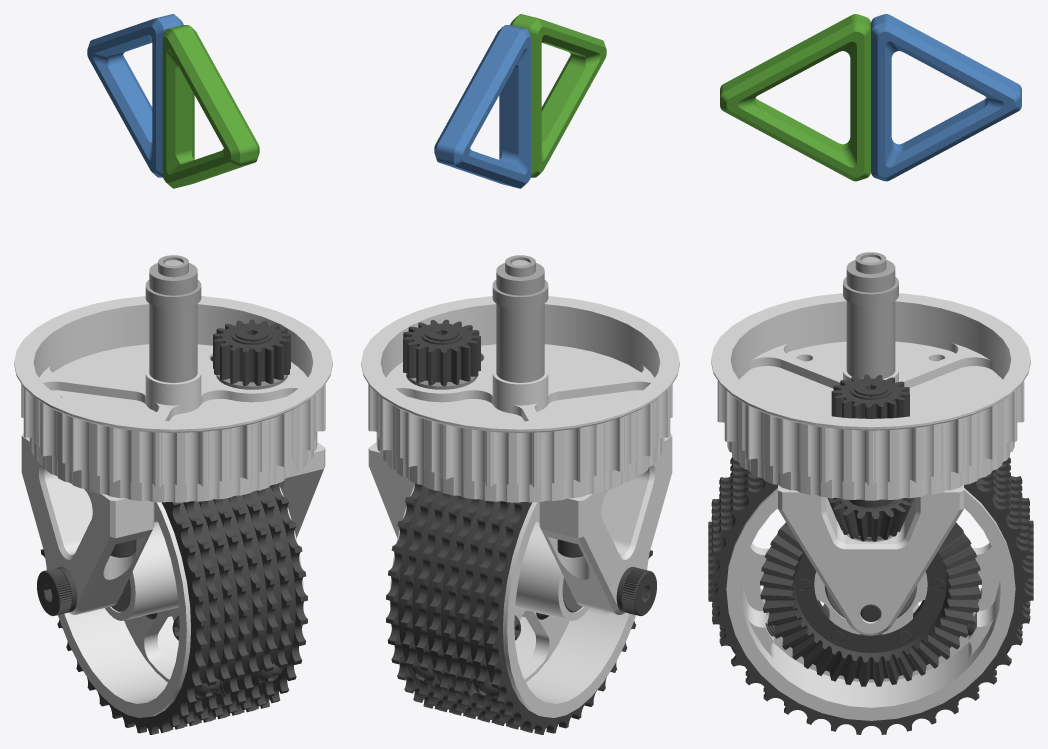
File: Robot_Swerve_1.glb
The picture shows the model from 3 angles, left to right: view 1: azimuth 30°, elevation 25°; view 2: azimuth 150°, elevation 25°; view 3: azimuth 270°, elevation 25°; orthographic projection.
Parts seen in each view (by area): view 1: MK3 Base Pulley Tall, Tread, Blue Nitrile 4in X 1.5in, Wheel, SDS, Nitrile Tread, 4in X 1.5in, Bearing Bore, Wheel Mount A, Green, Blue, MK3 Center Column, Gear, 17T, 20DP, .375Hex, Wheel Mount B Gen2, Screw, Shoulder, .375 X 2.5, 5_16-18, 91259A634_91259A634; view 2: MK3 Base Pulley Tall, Tread, Blue Nitrile 4in X 1.5in, Wheel, SDS, Nitrile Tread, 4in X 1.5in, Bearing Bore, Wheel Mount A, Blue, Green, MK3 Center Column, Gear, 17T, 20DP, .375Hex, Wheel Mount B Gen2, Screw, Shoulder, .375 X 2.5, 5_16-18, 91259A634_91259A634; view 3: MK3 Base Pulley Tall, Wheel, SDS, Nitrile Tread, 4in X 1.5in, Bearing Bore, Bevel Gear, 4515, Tread, Blue Nitrile 4in X 1.5in, Wheel Mount B Gen2, Green, Blue, MK3 Center Column, Bevel Gear, 1545, Gear, 17T, 20DP, .375Hex.
Part boxes in pixels (x1,y1,x2,y2): MK3 Base Pulley Tall: [14, 296, 332, 502]; Tread, Blue Nitrile 4in X 1.5in: [40, 483, 307, 734]; Wheel, SDS, Nitrile Tread, 4in X 1.5in, Bearing Bore: [45, 486, 303, 717]; Wheel Mount A: [21, 433, 154, 614]; Green: [162, 25, 259, 188]; Blue: [87, 14, 183, 177]; MK3 Center Column: [145, 255, 201, 382]; Gear, 17T, 20DP, .375Hex: [213, 319, 290, 385]; Wheel Mount B Gen2: [279, 442, 325, 538]; Screw, Shoulder, .375 X 2.5, 5_16-18, 91259A634_91259A634: [37, 567, 77, 615]; MK3 Base Pulley Tall: [361, 296, 679, 502]; Tread, Blue Nitrile 4in X 1.5in: [386, 483, 652, 734]; Wheel, SDS, Nitrile Tread, 4in X 1.5in, Bearing Bore: [390, 485, 648, 717]; Wheel Mount A: [539, 433, 672, 614]; Blue: [434, 25, 531, 188]; Green: [510, 14, 606, 177]; MK3 Center Column: [492, 255, 548, 382]; Gear, 17T, 20DP, .375Hex: [403, 319, 480, 386]; Wheel Mount B Gen2: [368, 442, 414, 538]; Screw, Shoulder, .375 X 2.5, 5_16-18, 91259A634_91259A634: [616, 567, 656, 615]; MK3 Base Pulley Tall: [711, 293, 1030, 500]; Wheel, SDS, Nitrile Tread, 4in X 1.5in, Bearing Bore: [726, 488, 1015, 720]; Bevel Gear, 4515: [760, 497, 981, 686]; Tread, Blue Nitrile 4in X 1.5in: [708, 457, 1033, 734]; Wheel Mount B Gen2: [778, 485, 963, 635]; Green: [720, 14, 870, 181]; Blue: [871, 14, 1021, 181]; MK3 Center Column: [843, 252, 898, 379]; Bevel Gear, 1545: [830, 498, 911, 541]; Gear, 17T, 20DP, .375Hex: [831, 374, 909, 418].
Size of the model in its own units: 0.0984 by 0.2343 by 0.1001.
